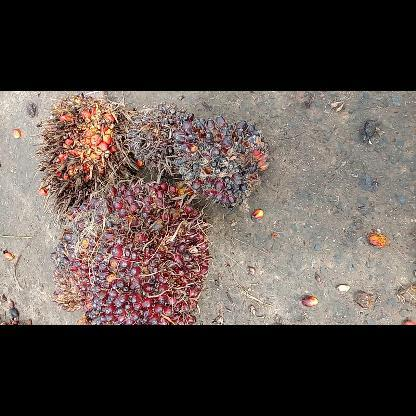TBS abnormal: (168, 112, 272, 212), (120, 103, 196, 179)
TBS masak: (50, 174, 210, 324)
Terlalu masak: (34, 90, 122, 226)
